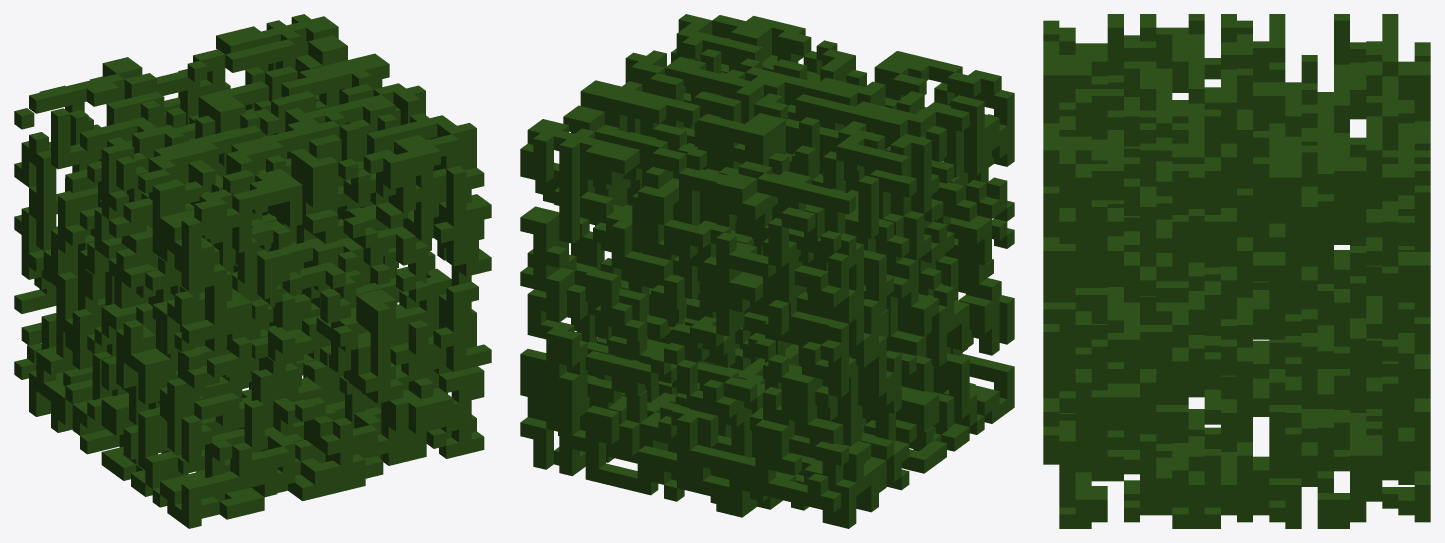
The model's file is leaf24x24x24.obj.
3 renders of one model, left to right at view 1: azimuth 30°, elevation 25°; view 2: azimuth 150°, elevation 25°; view 3: azimuth 270°, elevation 25°, orthographic. The views are drawn at different scales.
Parts seen in each view (by area): view 1: leaf24x24x24; view 2: leaf24x24x24; view 3: leaf24x24x24.
Boxes of the visible parts, x1,y1,x2,y2 form: leaf24x24x24: (14,14,491,528); leaf24x24x24: (520,14,1014,528); leaf24x24x24: (1043,14,1430,528).
Size of the model in its own units: 24 by 24 by 24.
1 material, 1 textured.
